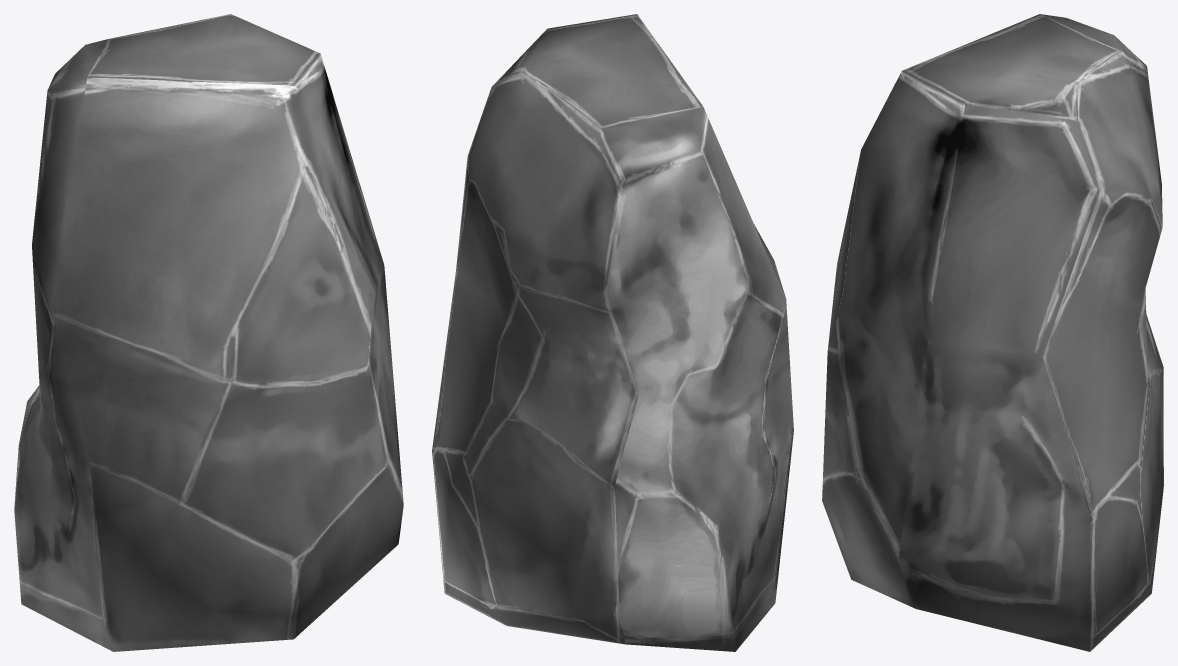
File: rock_5.fbx
The picture shows the model from 3 angles, left to right: view 1: azimuth 30°, elevation 25°; view 2: azimuth 150°, elevation 25°; view 3: azimuth 270°, elevation 25°; orthographic projection.
Visible parts, largest first — view 1: rock_5; view 2: rock_5; view 3: rock_5.
Part boxes in pixels (box(x1,y1,x2,y2)): rock_5: box(14, 14, 403, 651); rock_5: box(432, 14, 793, 651); rock_5: box(822, 14, 1163, 651).
Bounding box in the file's own units: 2.3 × 3.88 × 2.24.
